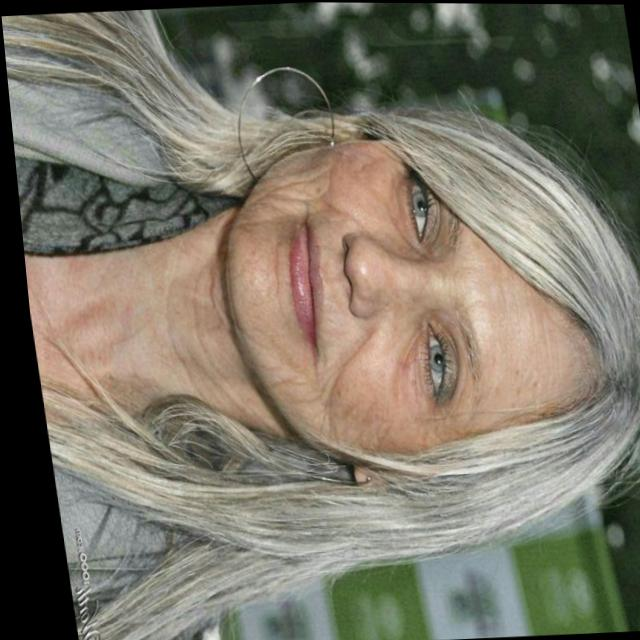Wrinkles: (309, 330, 369, 442), (259, 164, 331, 203), (316, 198, 368, 235), (282, 376, 320, 402), (546, 321, 553, 376)
